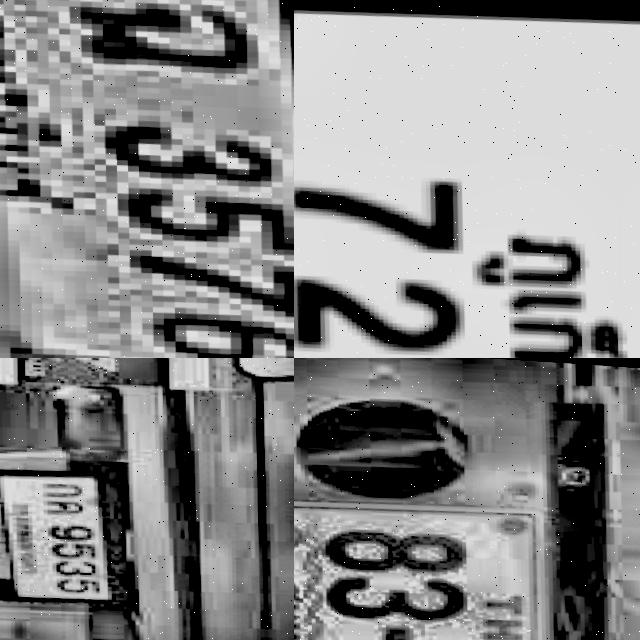license-plate: (294, 0, 640, 358), (0, 0, 294, 358), (294, 481, 561, 640), (0, 455, 142, 614)
